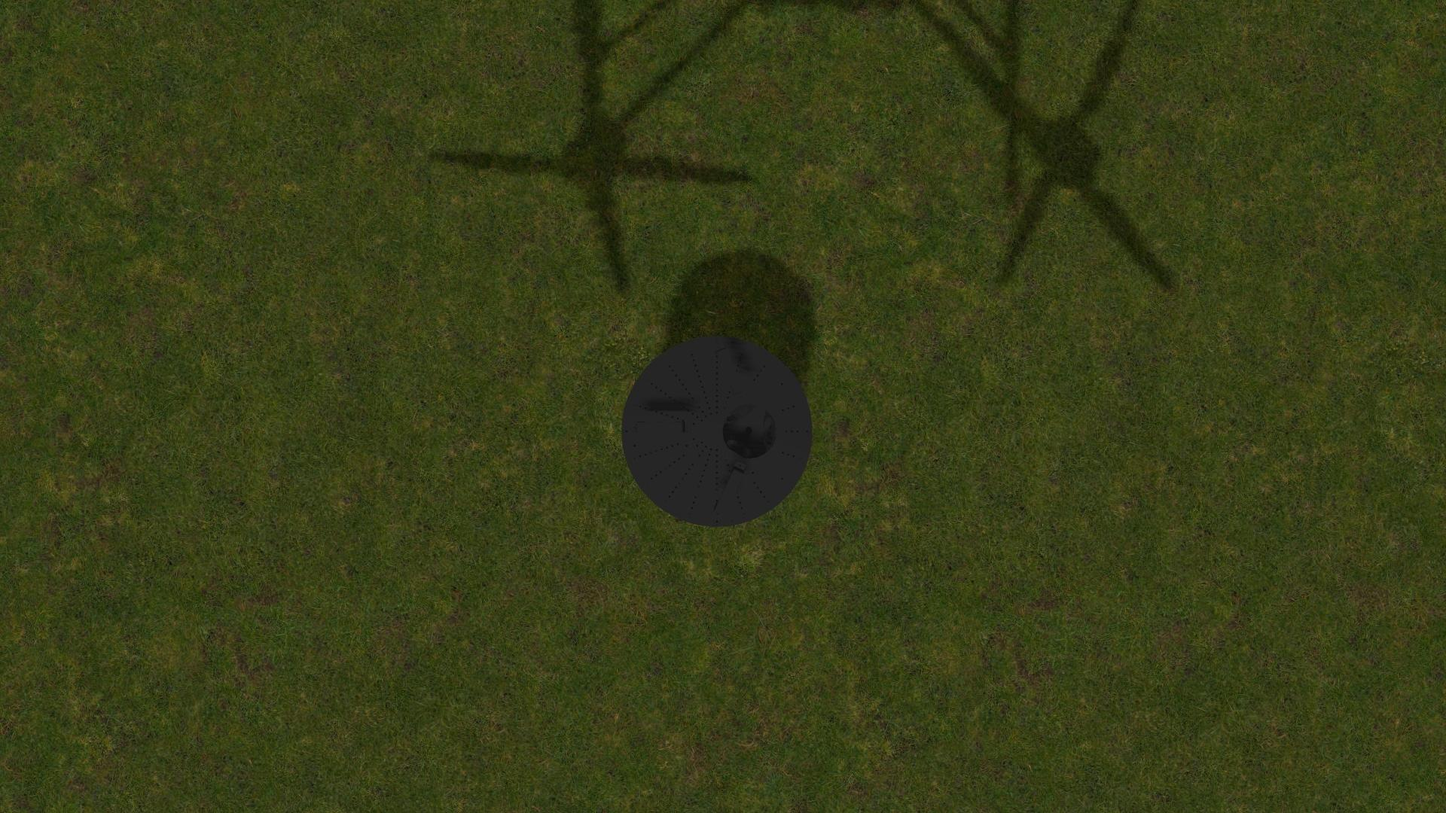alca: (712, 460, 747, 518), (714, 342, 747, 400), (632, 420, 691, 434)
armadilha: (621, 335, 813, 527)
